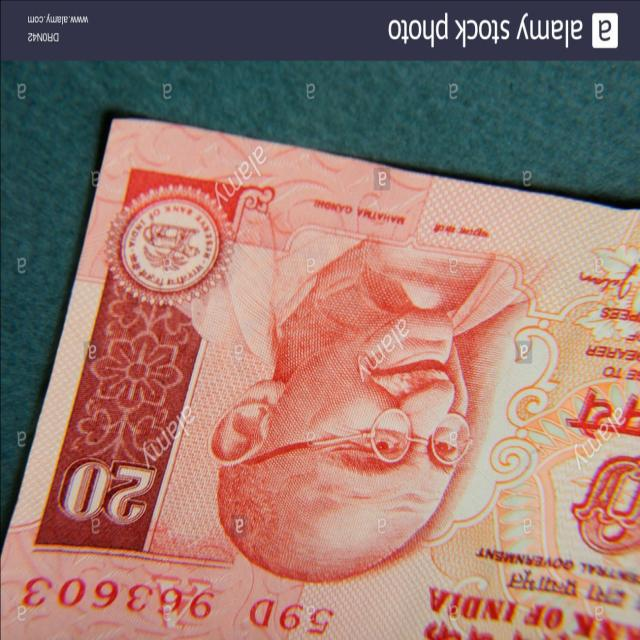20IndianRupees: (3, 114, 640, 640)
